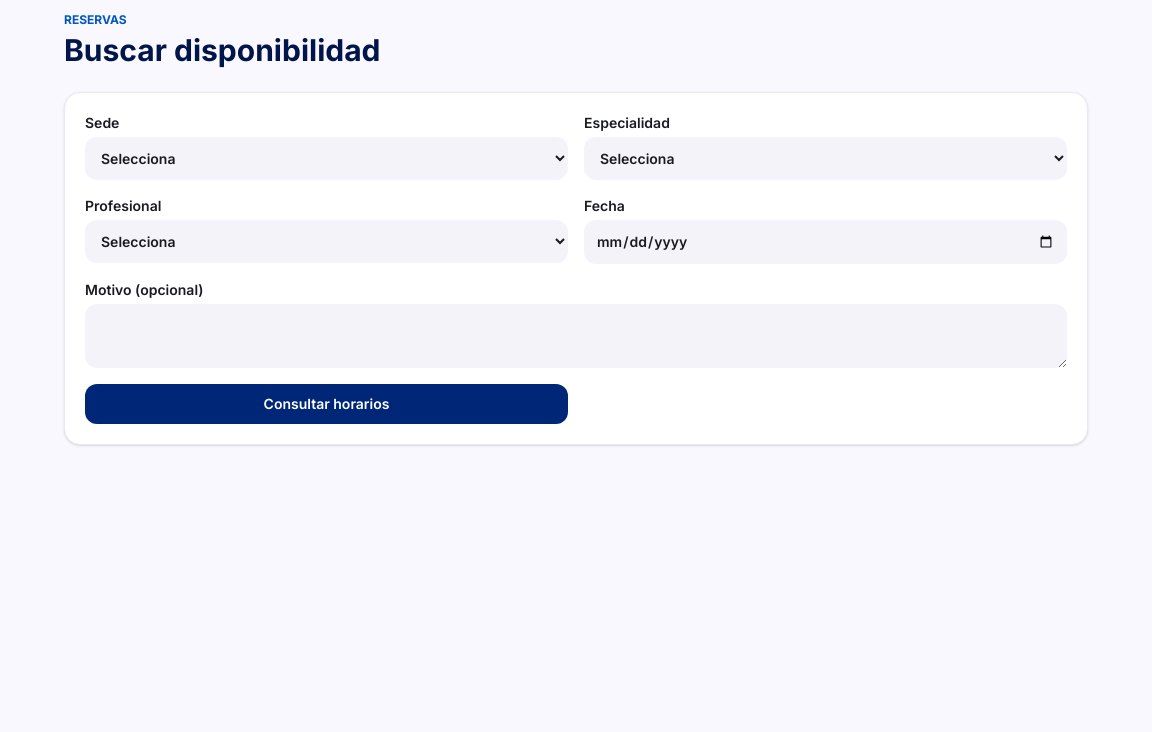
Scenario: BookingScreen › specialized reservation stays pending approval (REQUESTED)
Select "Sede Sintética" in the dropdown labelled "Sede" at (326, 158), box [85,137,568,180]
Select "Cardiología · 30 min" in the dropdown labelled "Especialidad" at (826, 158), box [584,137,1067,180]
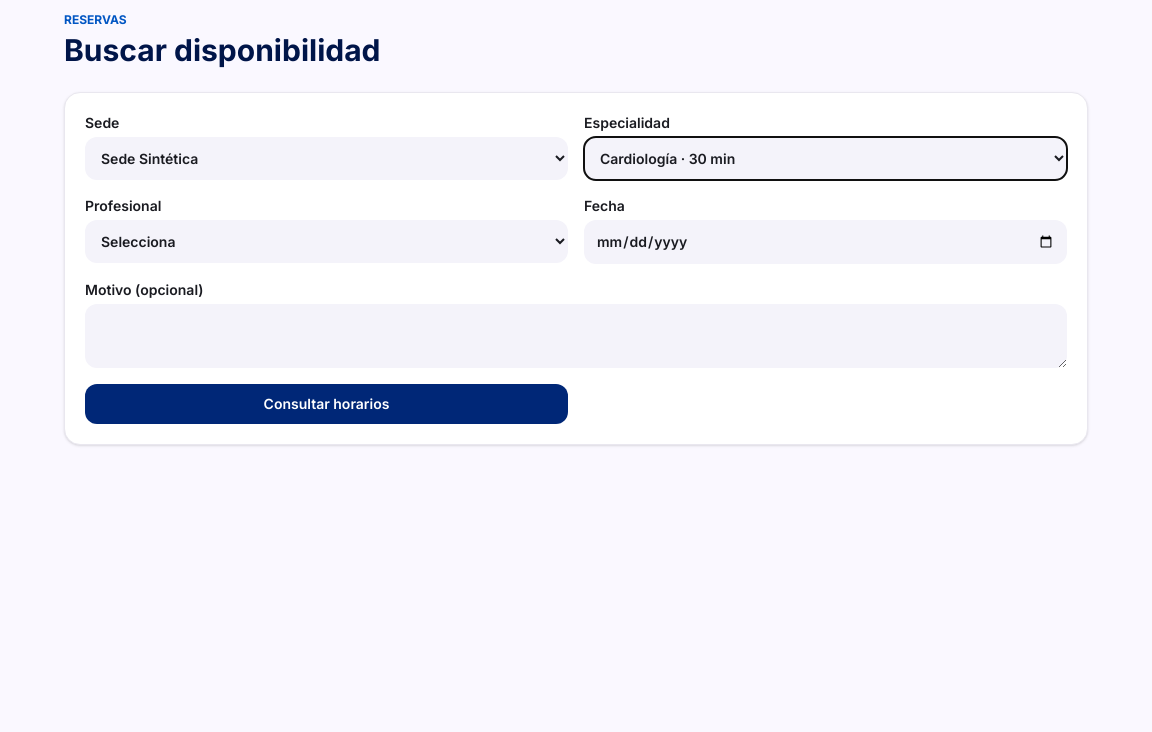
Select "Ana Prueba" in the dropdown labelled "Profesional" at (326, 242), box [85,220,568,263]
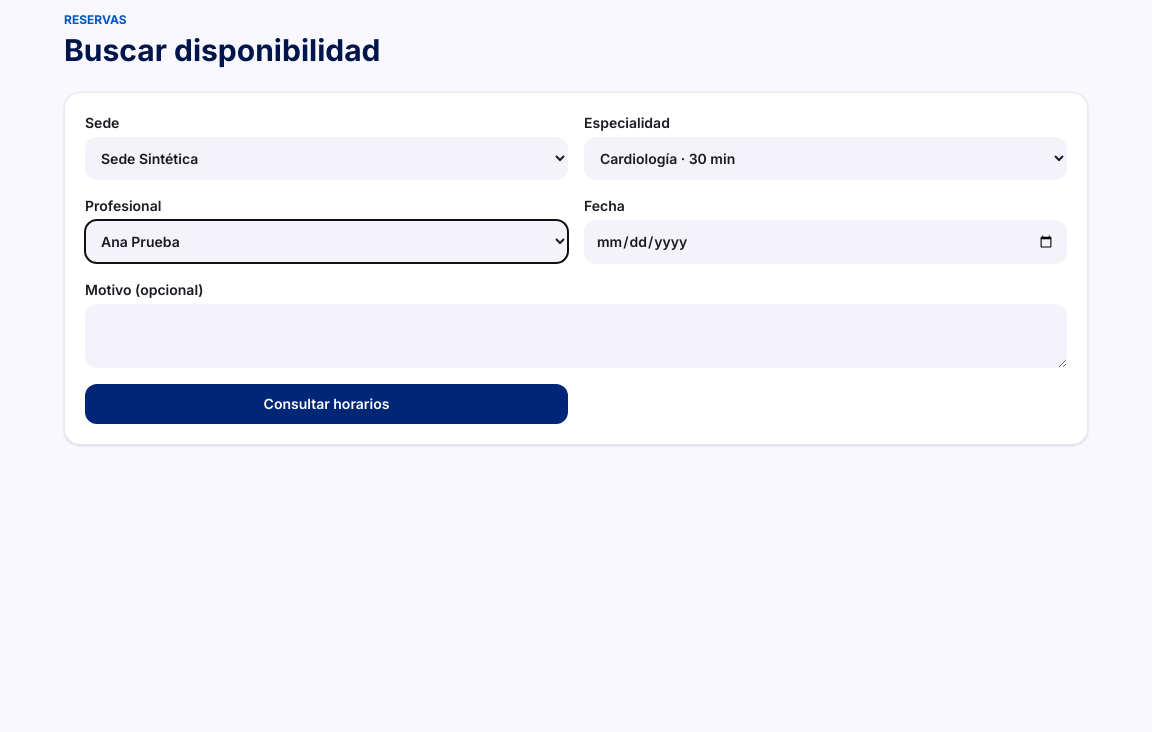
Type "2099-06-01" into the date field labelled "Fecha".
click(826, 242); type("2099-06-01")  # box [584,220,1067,264]
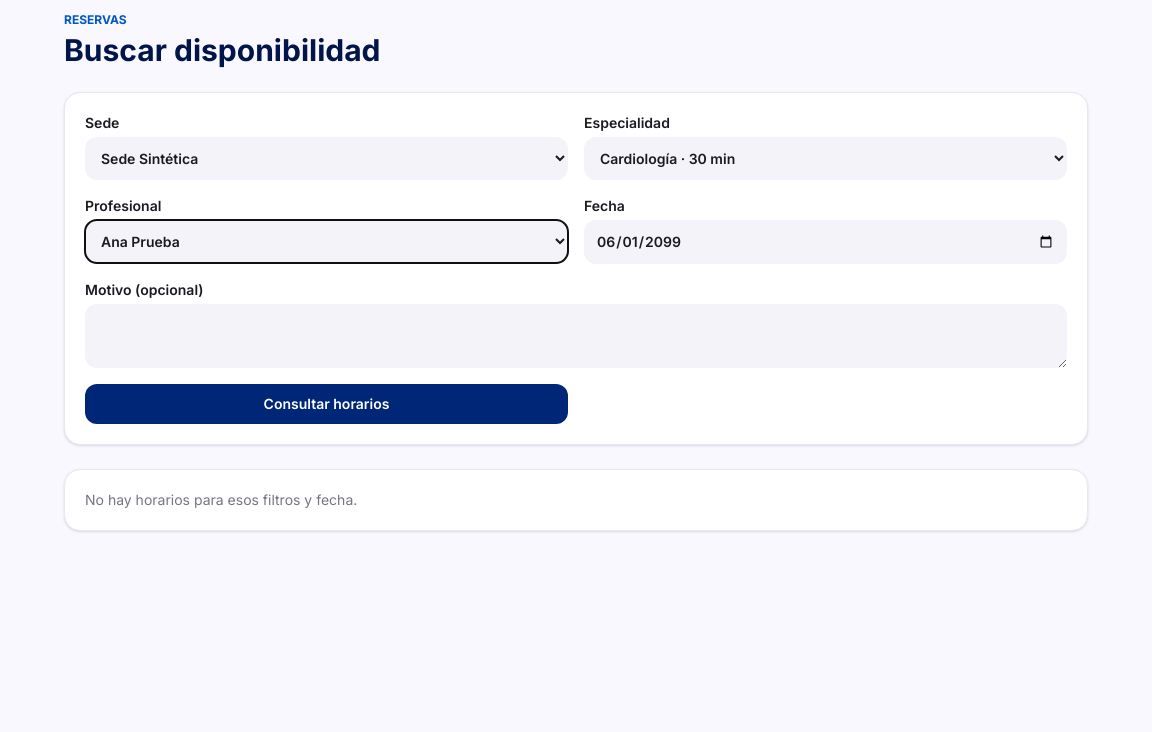
Click the button "Consultar horarios".
click(326, 404)  # box [85,384,568,424]
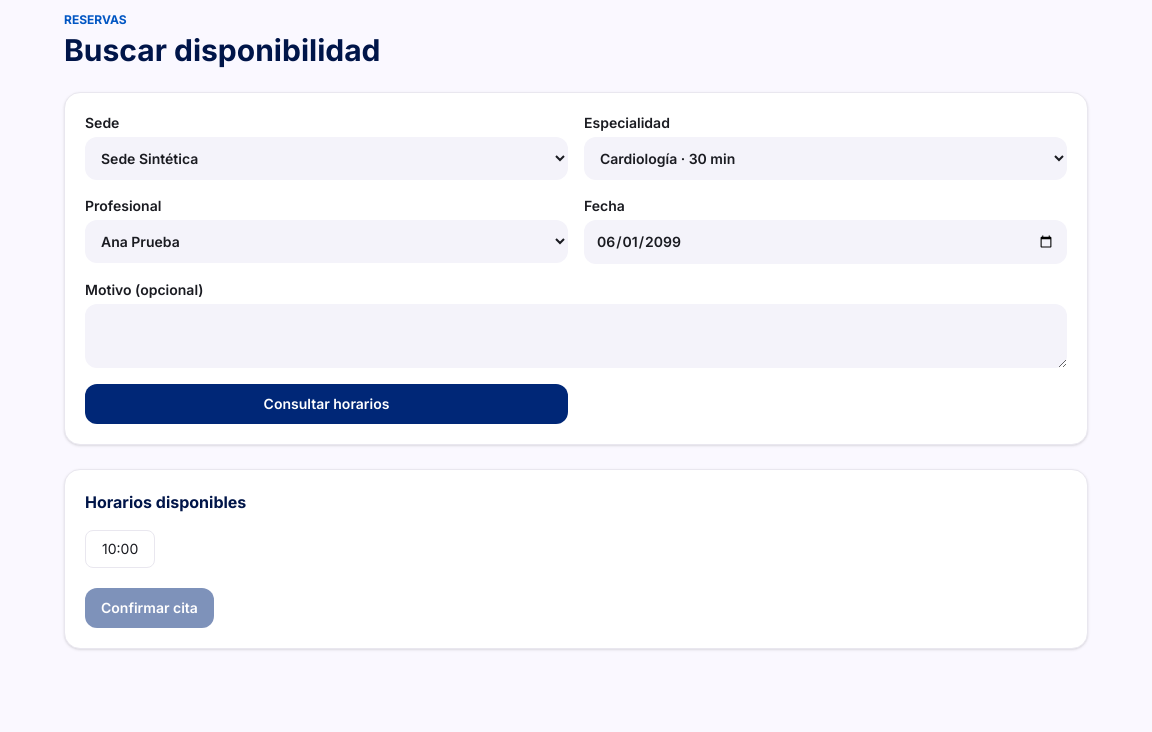
Click the button "10:00".
click(120, 549)  # box [85,530,155,568]
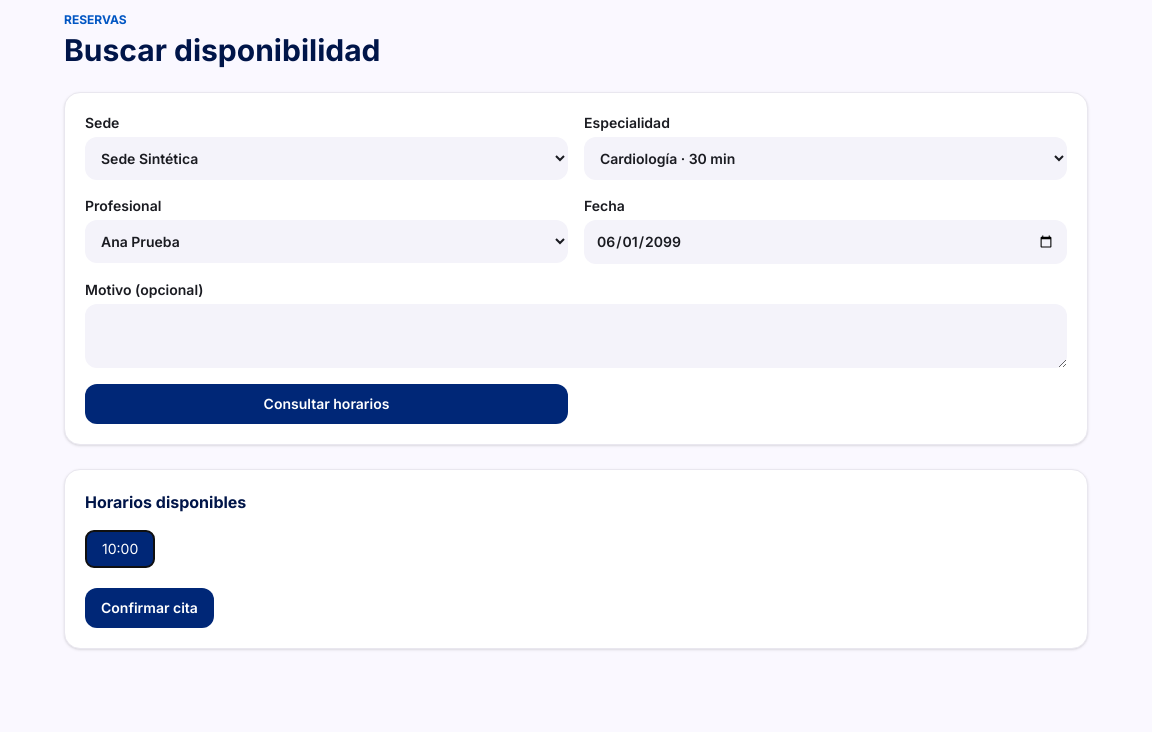
Click the button "Confirmar cita".
click(149, 608)  # box [85,588,214,628]
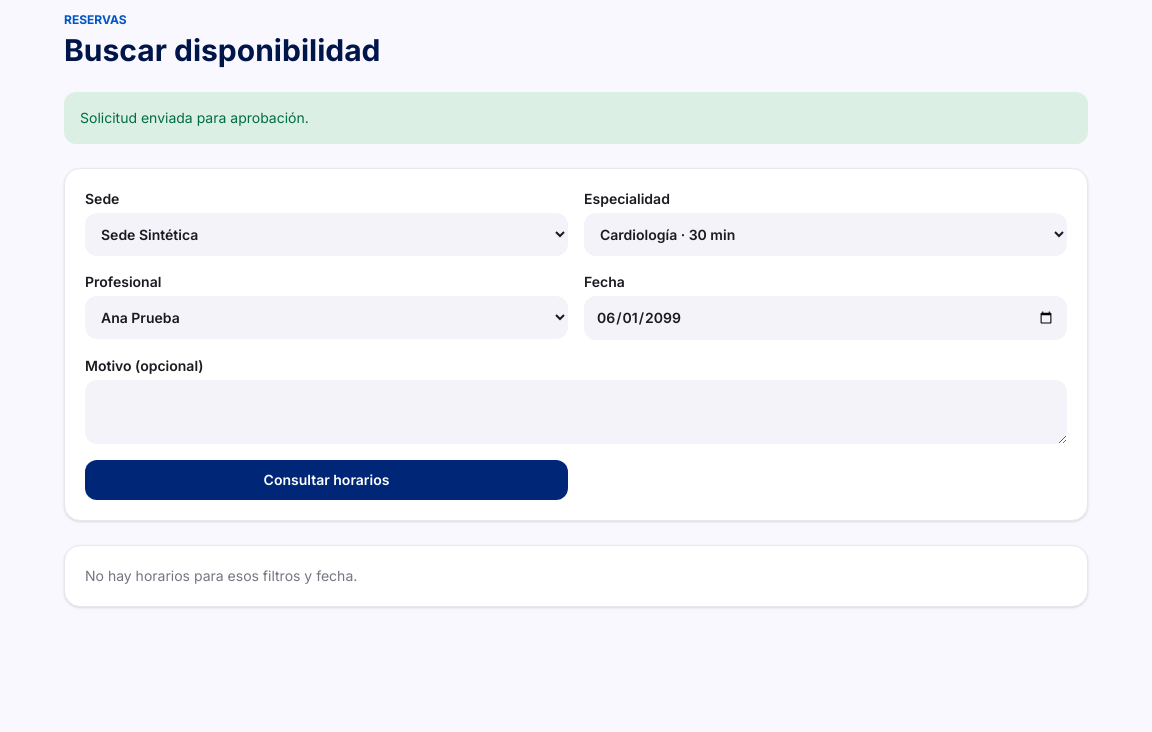
Expected: the message reads "Solicitud enviada para aprobación.", [80,109,309,126]
